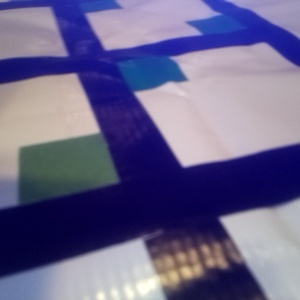top_right: (1, 185, 146, 300)
